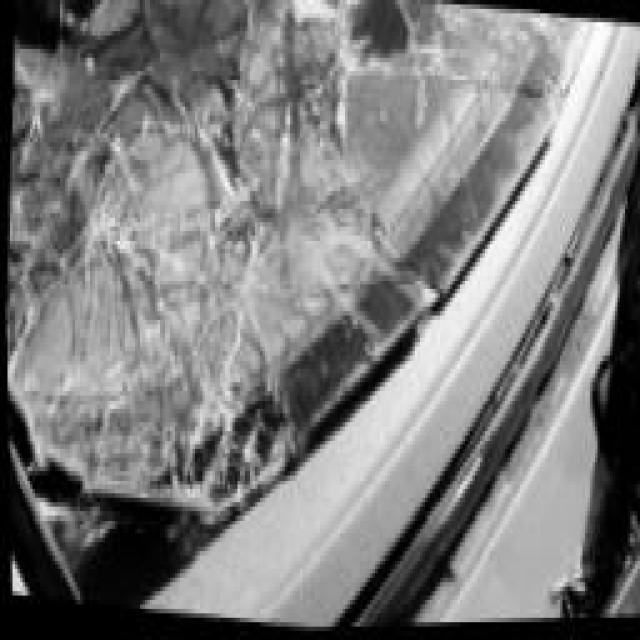Windshield: (6, 0, 592, 600)
